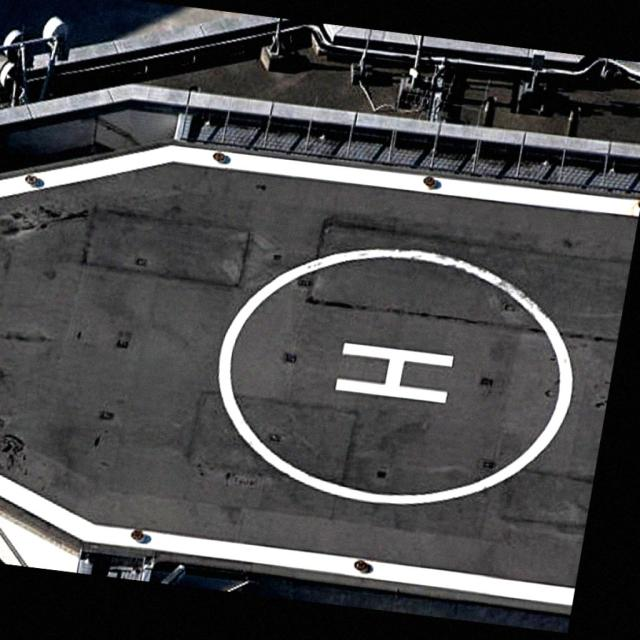helipad: (212, 242, 578, 511)
